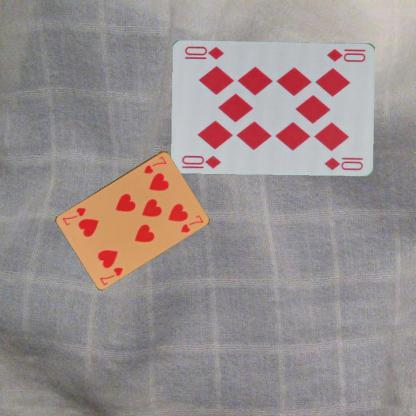10d: (180, 152, 223, 169), (325, 46, 367, 63)
7h: (97, 264, 124, 287), (140, 153, 168, 175)
